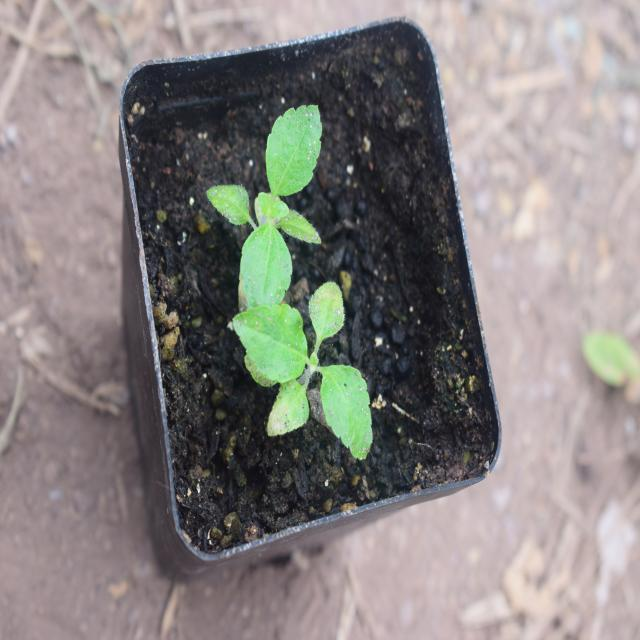billygoat_weed: (224, 291, 383, 460), (219, 106, 329, 326)
